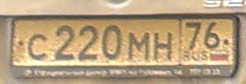character: (101, 24, 124, 61), (53, 24, 76, 60), (78, 24, 100, 61), (127, 31, 152, 62), (153, 30, 174, 62), (27, 33, 49, 61), (204, 19, 222, 51), (184, 20, 202, 51)
